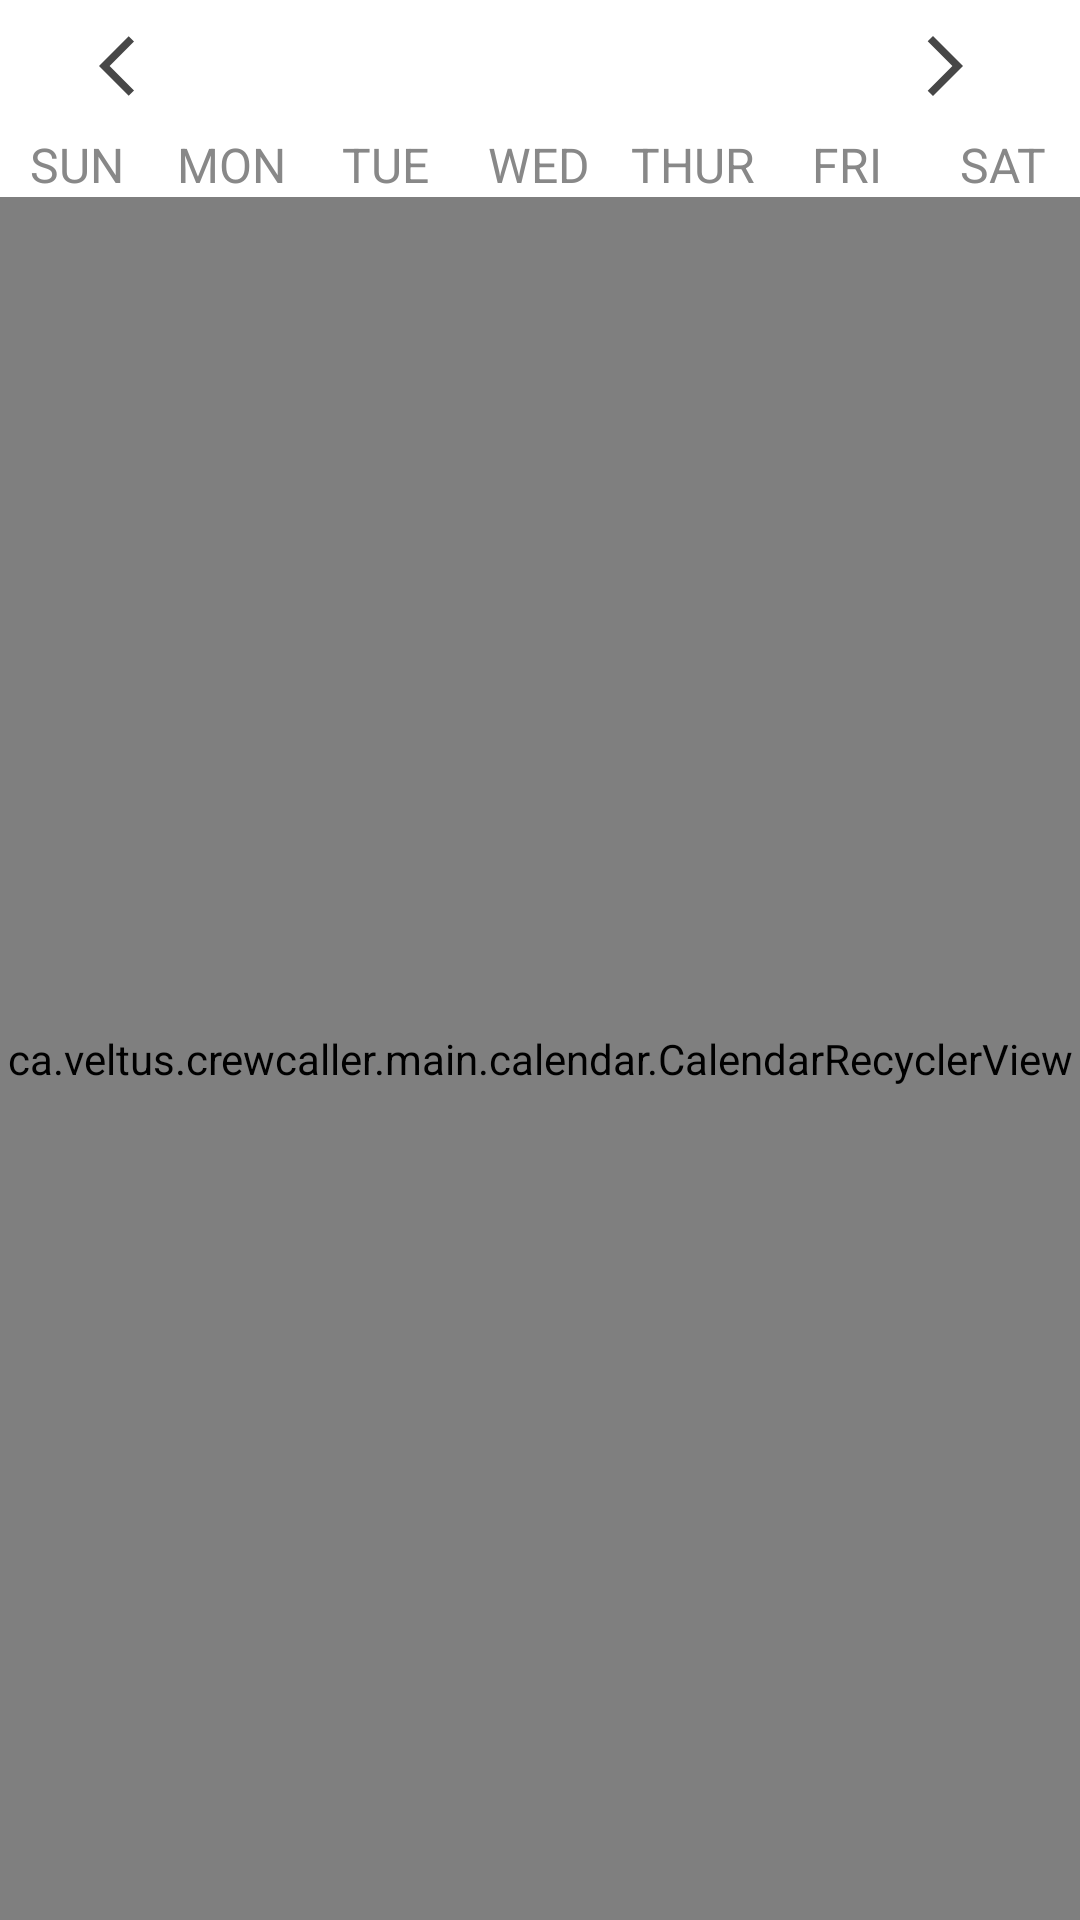

Named icons in this screenshot (1080x1920) and their centers, [x,y]:
next month button: [945,66]
previous month button: [116,66]
